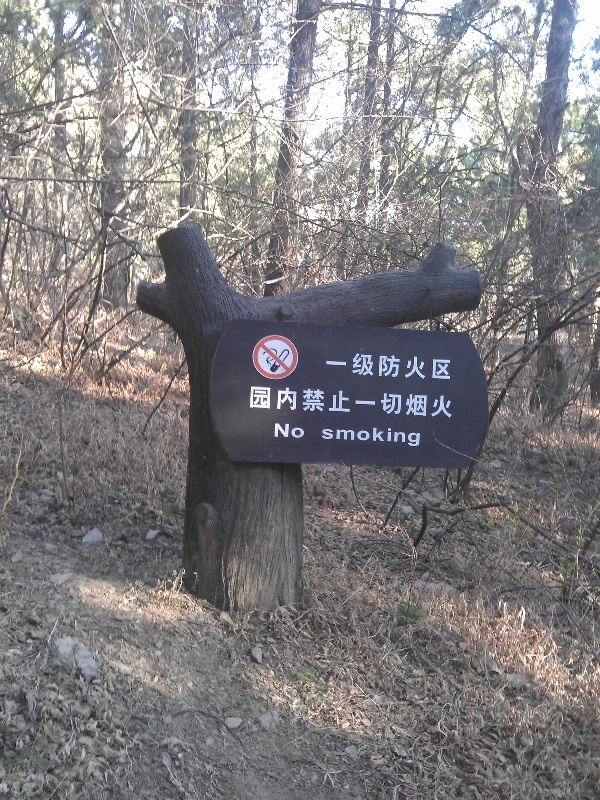text: (257, 385, 272, 420), (273, 385, 288, 420), (289, 385, 304, 420), (305, 385, 320, 420), (321, 385, 336, 420), (337, 385, 352, 420), (353, 385, 368, 420), (369, 385, 384, 420), (385, 385, 400, 420), (401, 385, 416, 420), (417, 385, 432, 420), (433, 385, 448, 420), (337, 352, 352, 382), (353, 352, 368, 382), (369, 352, 384, 382), (385, 352, 400, 382), (401, 352, 416, 382), (417, 352, 432, 382), (433, 352, 448, 382), (323, 352, 336, 382), (337, 424, 352, 449), (353, 424, 368, 449), (369, 424, 384, 449), (385, 424, 400, 449), (401, 424, 416, 449), (246, 385, 256, 420), (323, 424, 336, 449), (449, 385, 458, 420), (289, 422, 304, 440), (274, 422, 288, 440), (449, 352, 456, 382), (417, 424, 424, 449), (305, 422, 306, 440)
